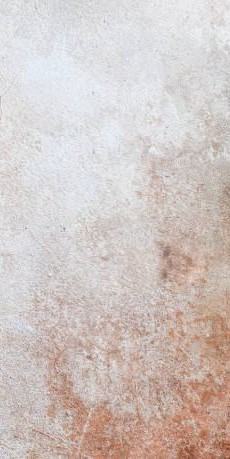Corrosion: (1, 143, 230, 459)
